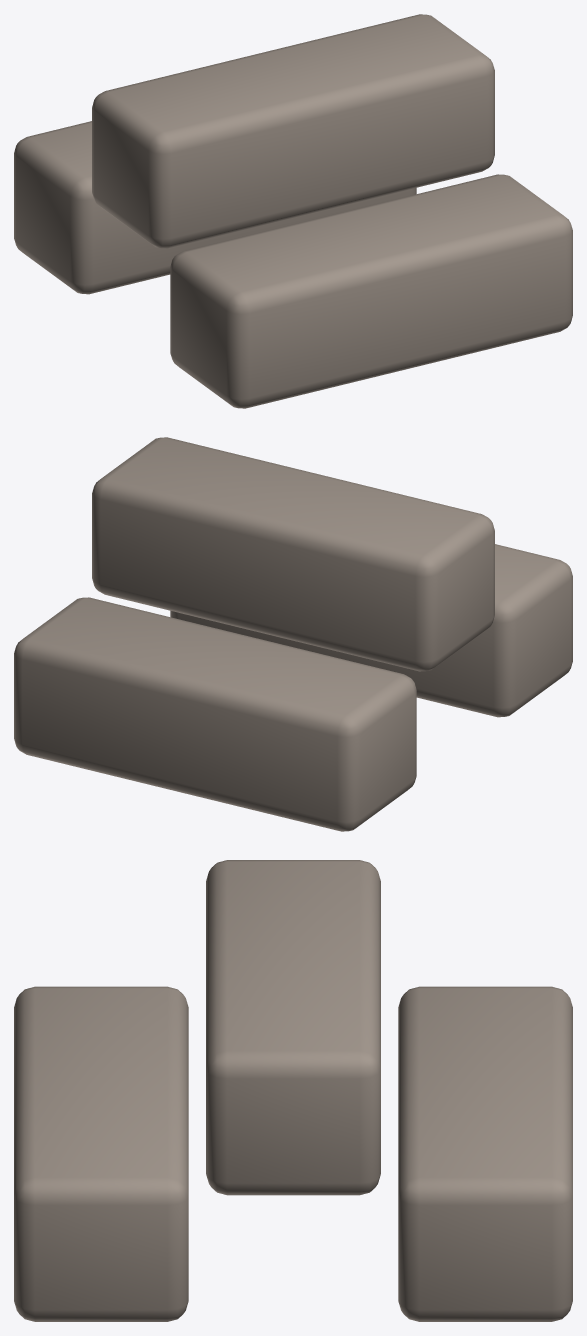
The model's file is SM_StoneStack.glb.
3 views of the same model, one above another, from view 1: azimuth 30°, elevation 25°; view 2: azimuth 150°, elevation 25°; view 3: azimuth 270°, elevation 25° (orthographic). The views are drawn at different scales.
Visible parts, largest first — view 1: SM_StoneStack; view 2: SM_StoneStack; view 3: SM_StoneStack.
Boxes of the visible parts, bbox=[...] form: SM_StoneStack: bbox=[14, 14, 572, 408]; SM_StoneStack: bbox=[14, 437, 572, 831]; SM_StoneStack: bbox=[14, 860, 572, 1321].
Bounding box in the file's own units: 0.28 × 0.17 × 0.32.
